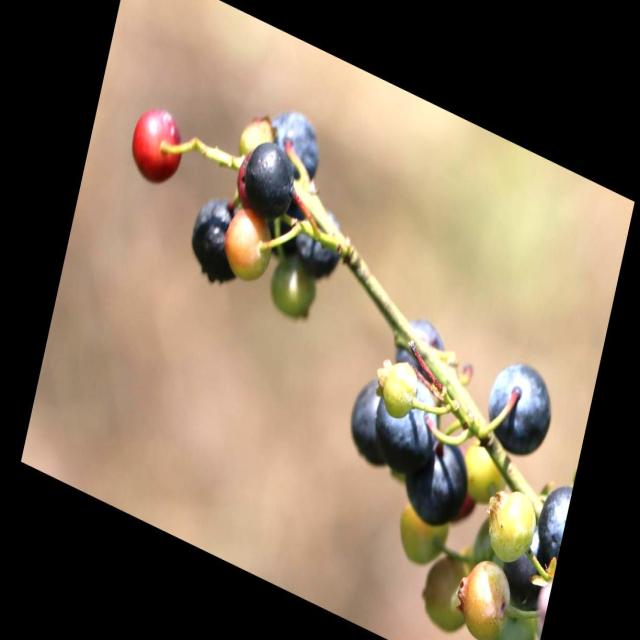blueberry: (480, 350, 560, 468), (370, 361, 441, 476), (401, 425, 474, 536), (183, 186, 249, 286), (342, 368, 404, 474), (238, 134, 300, 224), (287, 194, 348, 284), (258, 100, 326, 180), (496, 523, 552, 610), (390, 307, 450, 386), (530, 474, 572, 564)
blueberry-halfripe: (126, 98, 188, 193), (218, 199, 276, 287)
blueberry-unripe: (415, 541, 476, 636), (481, 480, 541, 570), (456, 550, 516, 639), (389, 497, 451, 572), (264, 252, 318, 325), (457, 438, 510, 510), (374, 353, 423, 423), (482, 596, 537, 639)
